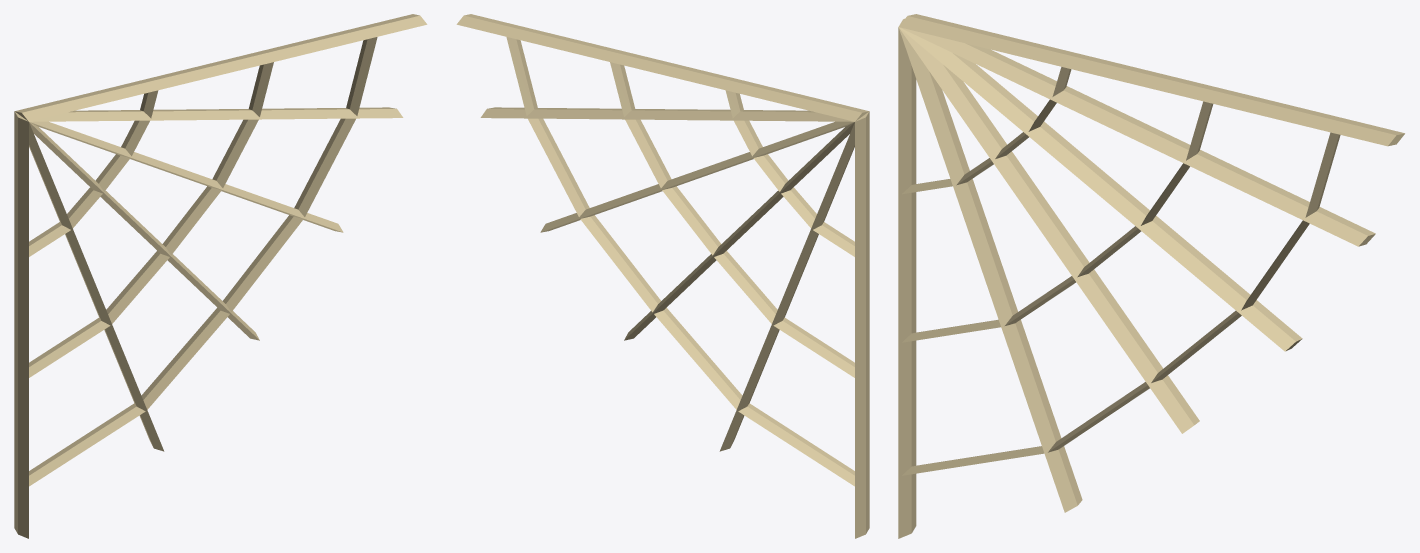
File: WarrensC_CCS84_CobwebCorner_Mars_SM.fbx
3 views of the same model, side by side, from view 1: azimuth 30°, elevation 25°; view 2: azimuth 150°, elevation 25°; view 3: azimuth 330°, elevation 25° (orthographic). The views are drawn at different scales.
Visible parts, largest first — view 1: WarrensC_CCS84_CobwebCorner_Mars_SM.001; view 2: WarrensC_CCS84_CobwebCorner_Mars_SM.001; view 3: WarrensC_CCS84_CobwebCorner_Mars_SM.001.
Boxes of the visible parts, <box> form: WarrensC_CCS84_CobwebCorner_Mars_SM.001: <box>14,14,427,538</box>; WarrensC_CCS84_CobwebCorner_Mars_SM.001: <box>456,14,869,538</box>; WarrensC_CCS84_CobwebCorner_Mars_SM.001: <box>898,14,1404,538</box>.
Size of the model in its own units: 80 by 5 by 80.
